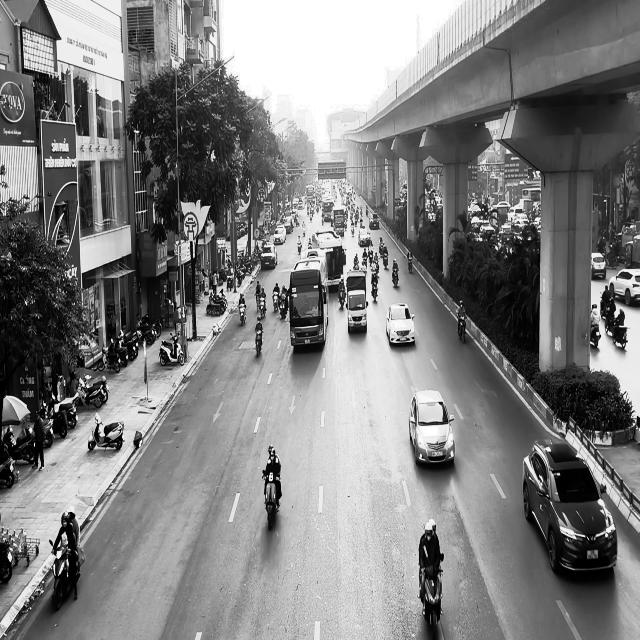bus: (289, 251, 329, 348)
car: (522, 438, 617, 574), (408, 389, 455, 466), (386, 302, 415, 346), (607, 268, 640, 306), (346, 289, 368, 333), (591, 252, 607, 279), (358, 228, 370, 246), (369, 212, 379, 229)
motorbike: (49, 539, 86, 611), (419, 565, 443, 634), (88, 412, 124, 451), (262, 469, 280, 530), (159, 332, 185, 366), (456, 312, 466, 343), (255, 325, 263, 356), (371, 274, 378, 302), (239, 300, 246, 325), (338, 284, 345, 309), (392, 268, 399, 288), (407, 253, 413, 273)
